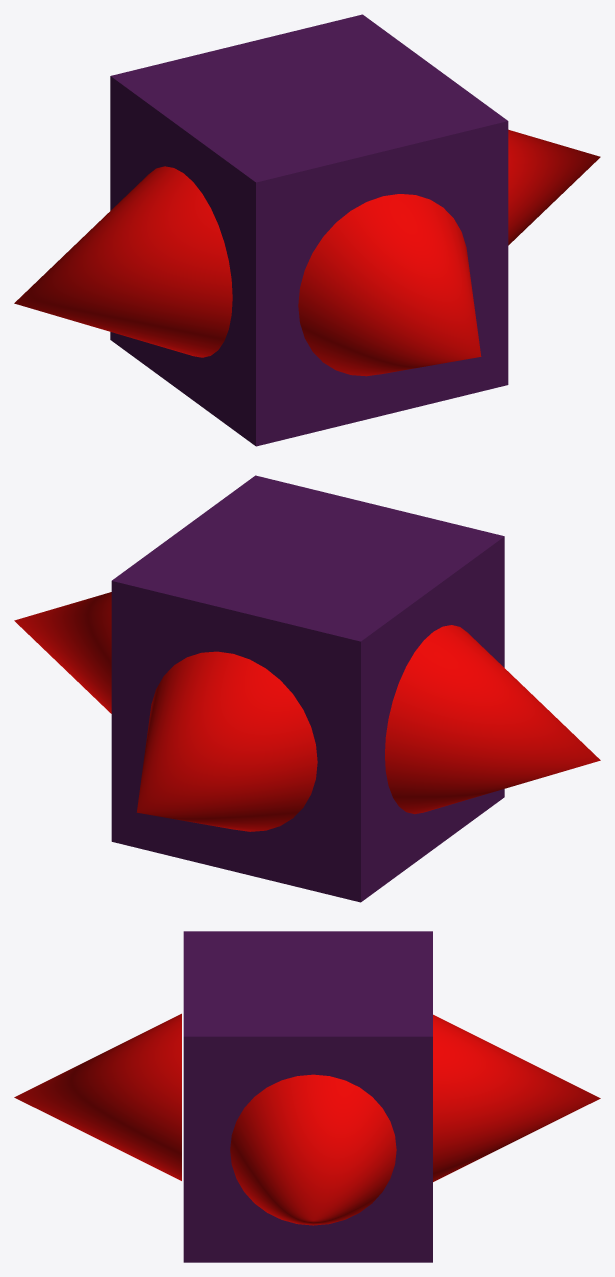
The model's file is enemy4.fbx.
3 renders of one model, top to bottom at view 1: azimuth 30°, elevation 25°; view 2: azimuth 150°, elevation 25°; view 3: azimuth 270°, elevation 25°, orthographic. The views are drawn at different scales.
Parts seen in each view (by area): view 1: Cube; view 2: Cube; view 3: Cube.
Boxes of the visible parts, bbox=[...] form: Cube: bbox=[14, 14, 600, 446]; Cube: bbox=[14, 475, 600, 902]; Cube: bbox=[14, 931, 600, 1262].
Size of the model in its own units: 468 by 200 by 471.
